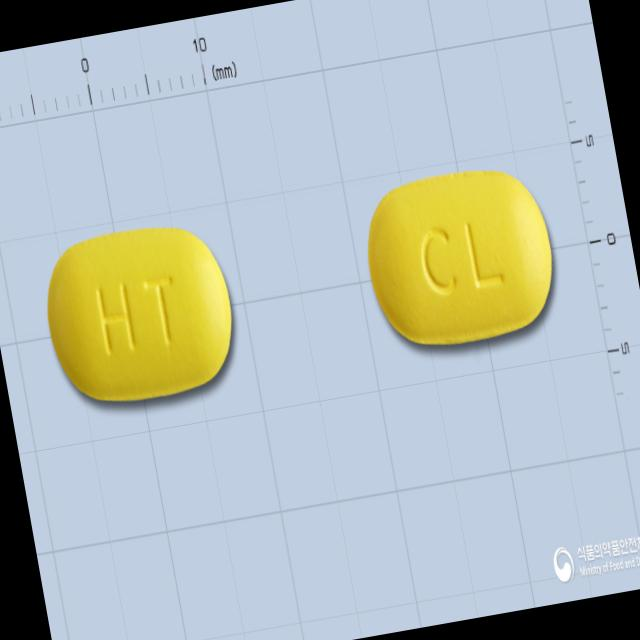Clathrocin -500mg: (354, 154, 566, 358), (34, 214, 246, 416)
